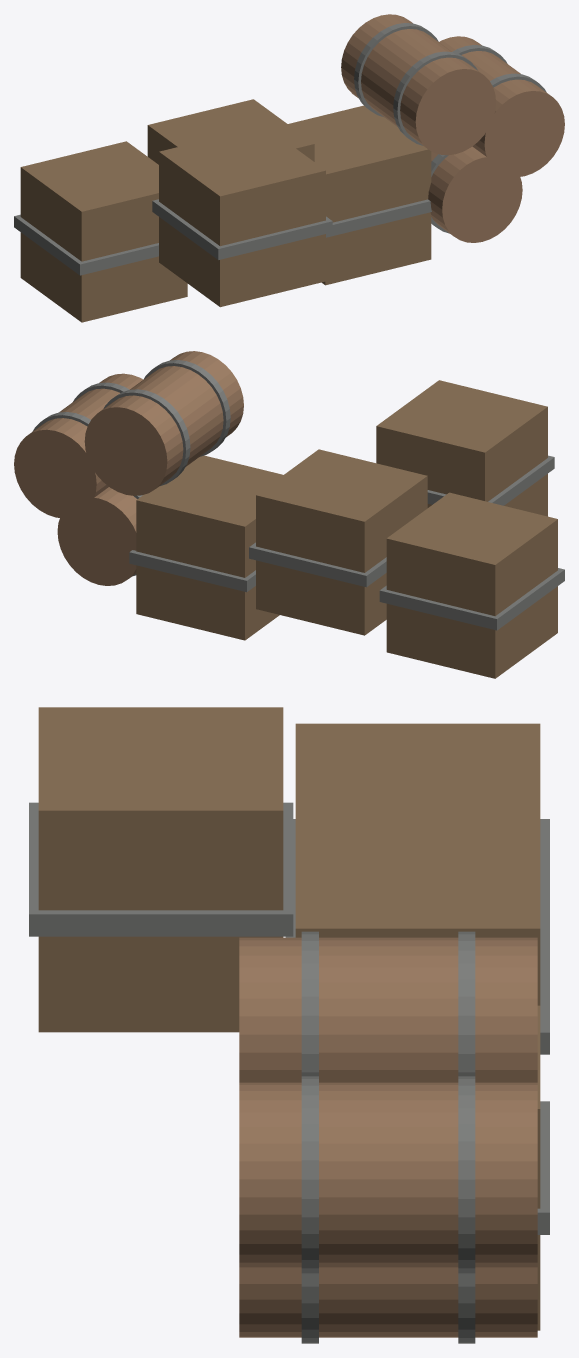
Rendered from crate_barrel_cluster.glb.
3 renders of one model, top to bottom at view 1: azimuth 30°, elevation 25°; view 2: azimuth 150°, elevation 25°; view 3: azimuth 270°, elevation 25°, orthographic. The views are drawn at different scales.
Parts seen in each view (by area): view 1: Crate3, Crate0, Crate2, Barrel0, Barrel1, Barrel2, Crate1, CrateBandA3, CrateBandA0, CrateBandA2, BarrelBand20, BarrelBand0; view 2: Crate0, Crate1, Crate2, Crate3, Barrel0, Barrel1, Barrel2, CrateBandA0, CrateBandA1, CrateBandA2, CrateBandA3, BarrelBand0 (+1 smaller); view 3: Crate3, Barrel1, Barrel0, Crate1, Crate0, Barrel2, CrateBandA3, BarrelBand1, BarrelBand21, BarrelBand0, BarrelBand20, CrateBandA2 (+5 smaller).
Part boxes in pixels (bbox=[...]): Crate3: bbox=[159, 126, 325, 307]; Crate0: bbox=[20, 141, 187, 322]; Crate2: bbox=[288, 105, 431, 285]; Barrel0: bbox=[341, 14, 495, 155]; Barrel1: bbox=[439, 36, 564, 176]; Barrel2: bbox=[428, 146, 522, 242]; Crate1: bbox=[147, 99, 314, 164]; CrateBandA3: bbox=[152, 199, 332, 259]; CrateBandA0: bbox=[14, 214, 158, 275]; CrateBandA2: bbox=[326, 199, 431, 237]; BarrelBand20: bbox=[354, 23, 438, 116]; BarrelBand0: bbox=[393, 51, 477, 145]; Crate0: bbox=[386, 492, 557, 678]; Crate1: bbox=[256, 449, 427, 635]; Crate2: bbox=[136, 455, 282, 640]; Crate3: bbox=[376, 380, 547, 516]; Barrel0: bbox=[84, 351, 243, 495]; Barrel1: bbox=[14, 373, 143, 518]; Barrel2: bbox=[57, 487, 137, 585]; CrateBandA0: bbox=[379, 568, 564, 630]; CrateBandA1: bbox=[249, 542, 386, 587]; CrateBandA2: bbox=[129, 550, 255, 592]; CrateBandA3: bbox=[427, 455, 554, 505]; BarrelBand0: bbox=[144, 360, 230, 456]; Crate3: bbox=[38, 707, 283, 1032]; Barrel1: bbox=[239, 1082, 537, 1268]; Barrel0: bbox=[239, 937, 537, 1082]; Crate1: bbox=[295, 825, 540, 1005]; Crate0: bbox=[295, 723, 540, 825]; Barrel2: bbox=[239, 1268, 537, 1337]; CrateBandA3: bbox=[29, 802, 293, 936]; BarrelBand1: bbox=[301, 1076, 318, 1274]; BarrelBand21: bbox=[458, 1076, 475, 1274]; BarrelBand0: bbox=[301, 931, 318, 1076]; BarrelBand20: bbox=[458, 931, 475, 1076]; CrateBandA2: bbox=[537, 1101, 549, 1234].
Bounding box in the file's own units: 4.5 × 1.81 × 2.13.
